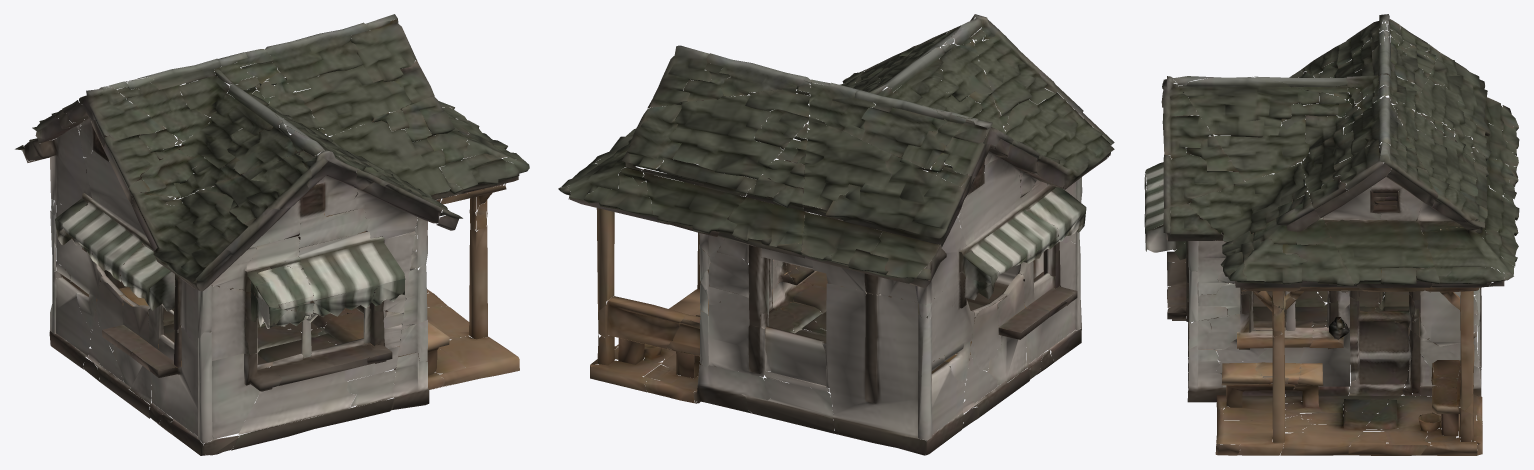
Rendered from halfway.glb.
3 views of the same model, side by side, from view 1: azimuth 30°, elevation 25°; view 2: azimuth 150°, elevation 25°; view 3: azimuth 270°, elevation 25° (orthographic). The views are drawn at different scales.
Visible parts, largest first — view 1: tripo_node_5db4f67f-a6f4-45ac-be3f-84ffac5d27cb; view 2: tripo_node_5db4f67f-a6f4-45ac-be3f-84ffac5d27cb; view 3: tripo_node_5db4f67f-a6f4-45ac-be3f-84ffac5d27cb.
Part boxes in pixels (x1=…): tripo_node_5db4f67f-a6f4-45ac-be3f-84ffac5d27cb: x1=15, y1=14, x2=529, y2=455; tripo_node_5db4f67f-a6f4-45ac-be3f-84ffac5d27cb: x1=558, y1=14, x2=1114, y2=455; tripo_node_5db4f67f-a6f4-45ac-be3f-84ffac5d27cb: x1=1144, y1=14, x2=1519, y2=455.
Size of the model in its own units: 1 by 0.7455 by 0.893.
1 material, 1 textured.
